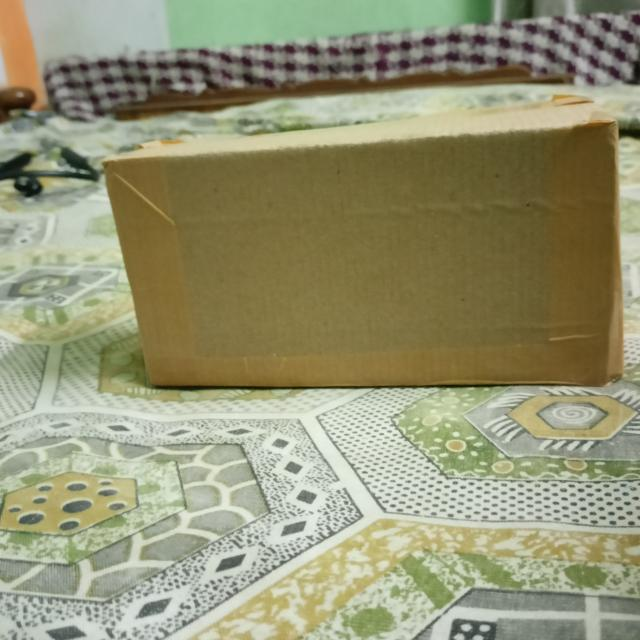box: (103, 122, 626, 386)
